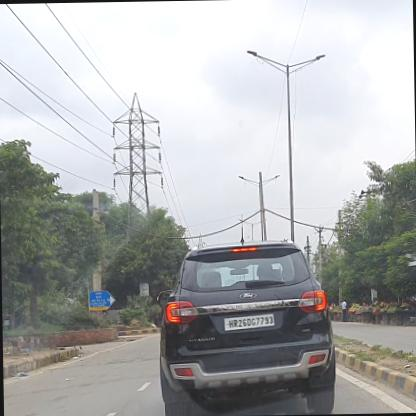car: (156, 237, 341, 415)
